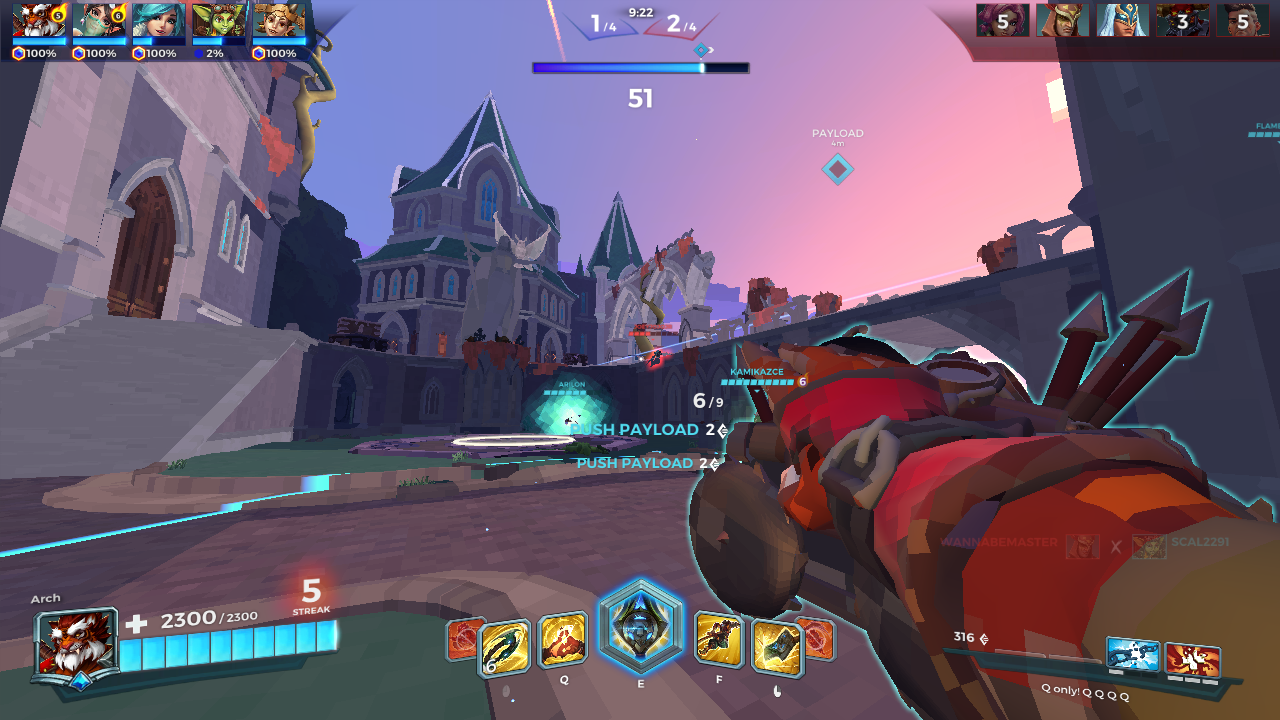model: (647, 348, 668, 370)
